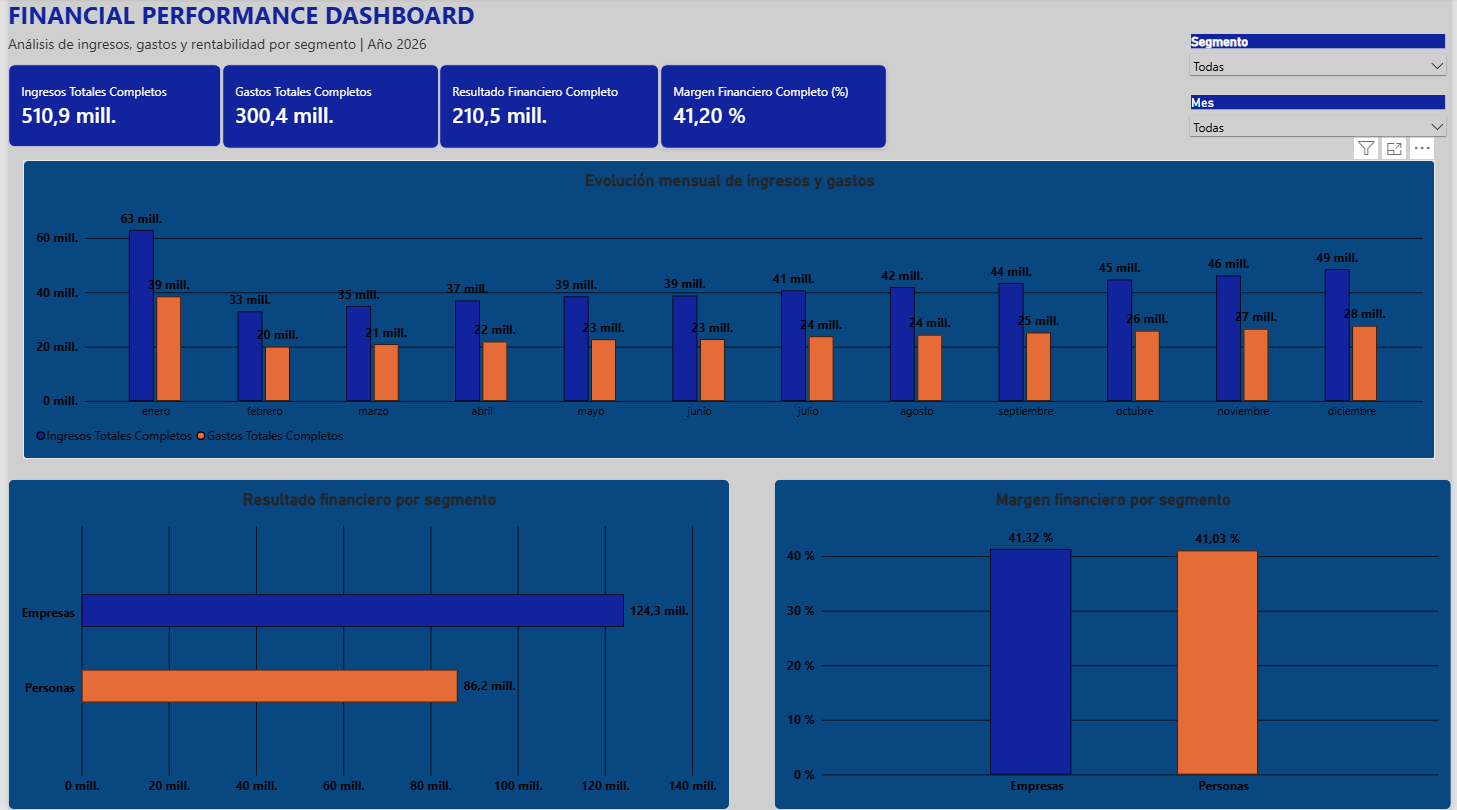

Layout of this report page (visuals, bound fields, positions):
{"tool":"powerbi","page":{"name":"Página 1","canvas":[1920,1080],"ordinal":0},"visuals":[{"type":"cardVisual","fields":{"Data":["ResultadosFinancieros_Completo.Gastos Totales Completos"]},"box":[284.1,88.3,289.7,113.1],"z":1},{"type":"cardVisual","fields":{"Data":["ResultadosFinancieros_Completo.Ingresos Totales Completos"]},"box":[0,88.3,284.1,111.7],"z":4},{"type":"cardVisual","fields":{"Data":["ResultadosFinancieros_Completo.Resultado Financiero Completo"]},"box":[573.8,88.3,293.8,113.1],"z":6},{"type":"cardVisual","fields":{"Data":["ResultadosFinancieros_Completo.Margen Financiero Completo (%)"]},"box":[867.6,88.3,302.1,113.1],"z":7},{"type":"clusteredColumnChart","title":"Evolución mensual de ingresos y gastos","fields":{"Category":["ResultadosFinancieros_Completo.Mes.Variation.Jerarquía de fechas.Mes"],"Y":["ResultadosFinancieros_Completo.Ingresos Totales Completos","ResultadosFinancieros_Completo.Gastos Totales Completos"]},"box":[19.3,215.2,1878.6,398.6],"z":8},{"type":"clusteredBarChart","title":"Resultado financiero por segmento","fields":{"Category":["ResultadosFinancieros_Completo.Segmento"],"Y":["ResultadosFinancieros_Completo.Resultado Financiero Completo"]},"box":[0,640,960,440],"z":9},{"type":"clusteredColumnChart","title":"Margen financiero por segmento","fields":{"Category":["ResultadosFinancieros_Completo.Segmento"],"Y":["ResultadosFinancieros_Completo.Margen Financiero Completo (%)"]},"box":[1019.3,640,900.7,440],"z":10},{"type":"slicer","fields":{"Values":["ResultadosFinancieros_Completo.Segmento"]},"box":[1565.5,48.3,354.5,66.2],"z":11},{"type":"slicer","fields":{"Values":["ResultadosFinancieros_Completo.Mes.Variation.Jerarquía de fechas.Mes"]},"box":[1565.5,129.7,354.5,71.7],"z":12},{"type":"textbox","box":[0,0,697.9,66.2],"z":14},{"type":"textbox","box":[0,48.3,688.3,66.2],"z":15}]}

Visuals, with their boxes in screenshot pixels (x1, y1, x2, y2), scaled from the page's 1920x1080 canvas onto the 1457x810 screenshot:
cardVisual - ResultadosFinancieros_Completo.Gastos Totales Completos: l=216, t=66, r=435, b=151
cardVisual - ResultadosFinancieros_Completo.Ingresos Totales Completos: l=0, t=66, r=216, b=150
cardVisual - ResultadosFinancieros_Completo.Resultado Financiero Completo: l=435, t=66, r=658, b=151
cardVisual - ResultadosFinancieros_Completo.Margen Financiero Completo (%): l=658, t=66, r=888, b=151
"Evolución mensual de ingresos y gastos" clusteredColumnChart: l=15, t=161, r=1440, b=460
"Resultado financiero por segmento" clusteredBarChart: l=0, t=480, r=728, b=809
"Margen financiero por segmento" clusteredColumnChart: l=774, t=480, r=1456, b=809
slicer - ResultadosFinancieros_Completo.Segmento: l=1188, t=36, r=1456, b=86
slicer - ResultadosFinancieros_Completo.Mes.Variation.Jerarquía de fechas.Mes: l=1188, t=97, r=1456, b=151
textbox: l=0, t=0, r=530, b=50
textbox: l=0, t=36, r=522, b=86
